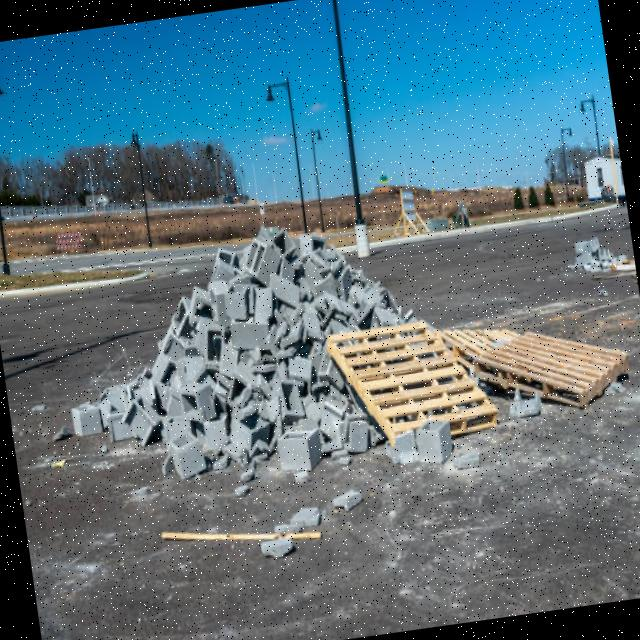Wooden-Pallets: (325, 327, 503, 438), (475, 328, 633, 411)
